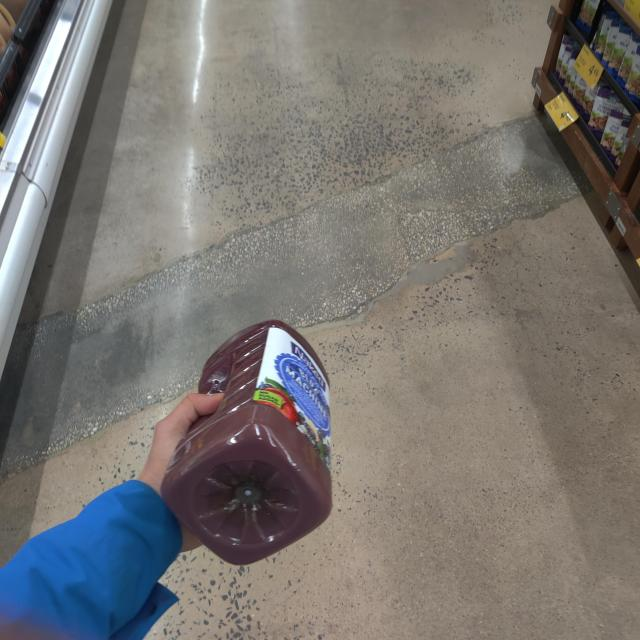Juice: (154, 314, 358, 565)
